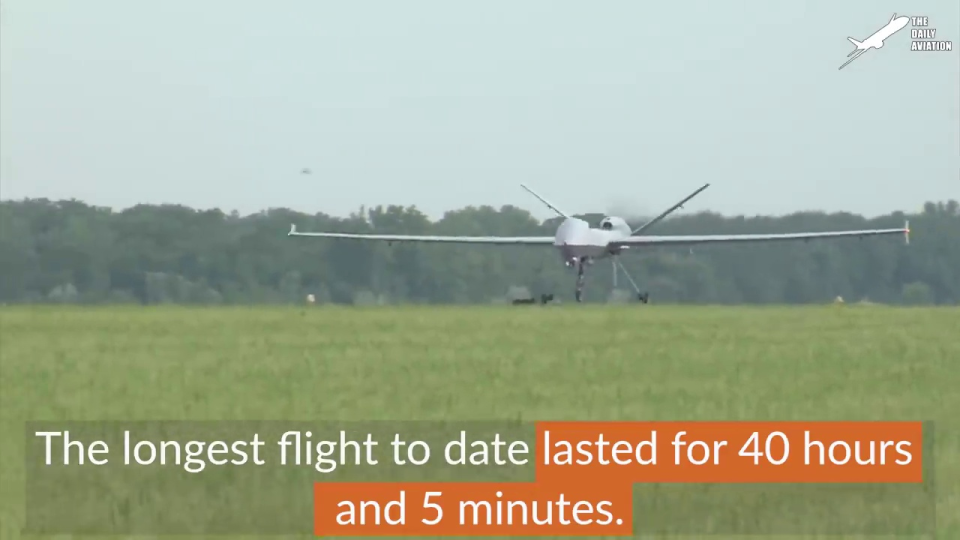military drone: (287, 183, 910, 302)
